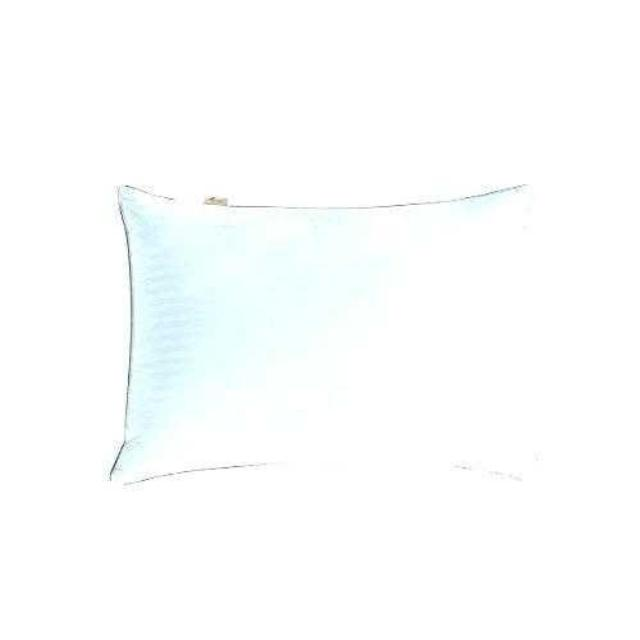pillow: (108, 181, 532, 485)
